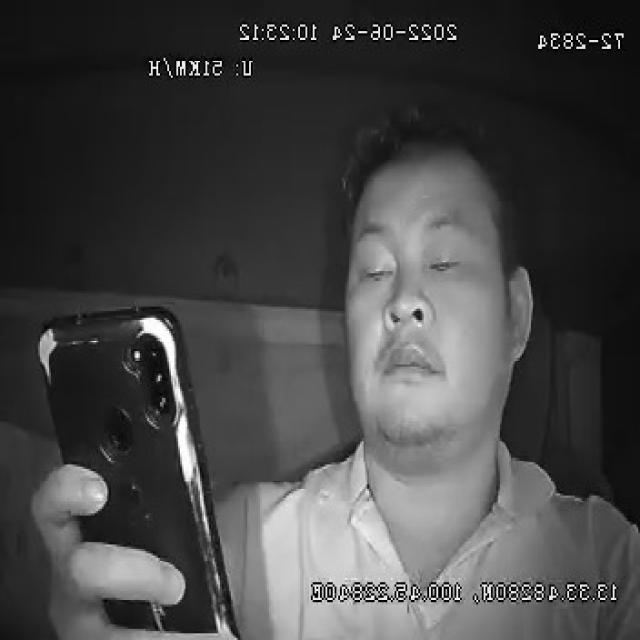phone: (35, 306, 234, 640)
